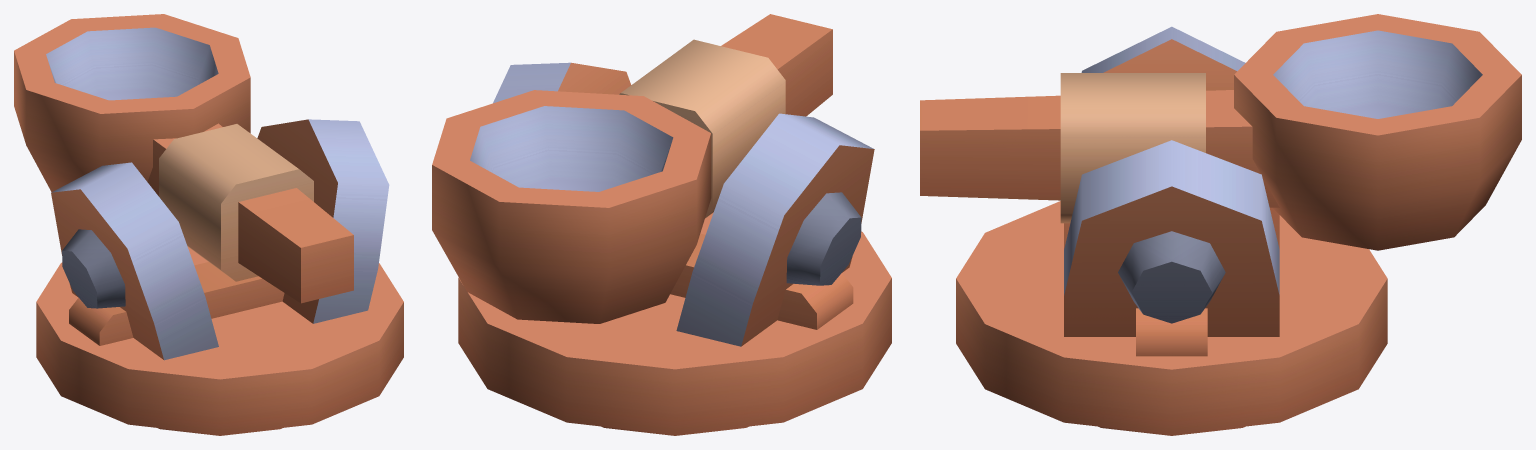
The model's file is katapult.glb.
The picture shows the model from 3 angles, left to right: view 1: azimuth 30°, elevation 25°; view 2: azimuth 150°, elevation 25°; view 3: azimuth 270°, elevation 25°; orthographic projection. The views are drawn at different scales.
Parts seen in each view (by area): view 1: weapon-catapult, catapult; view 2: weapon-catapult, catapult; view 3: weapon-catapult, catapult.
Part boxes in pixels (x1,y1,x2,y2): weapon-catapult: [36, 119, 403, 435]; catapult: [14, 14, 353, 303]; weapon-catapult: [458, 62, 891, 435]; catapult: [432, 14, 832, 323]; weapon-catapult: [956, 26, 1387, 435]; catapult: [920, 14, 1521, 250].
Size of the model in its own units: 0.6 by 0.4625 by 0.8366.
Materials: 1 (1 with a texture image).
